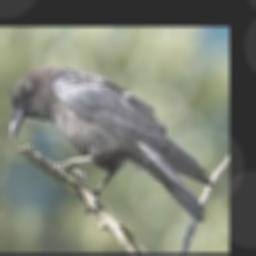Crow: (10, 65, 211, 225)
